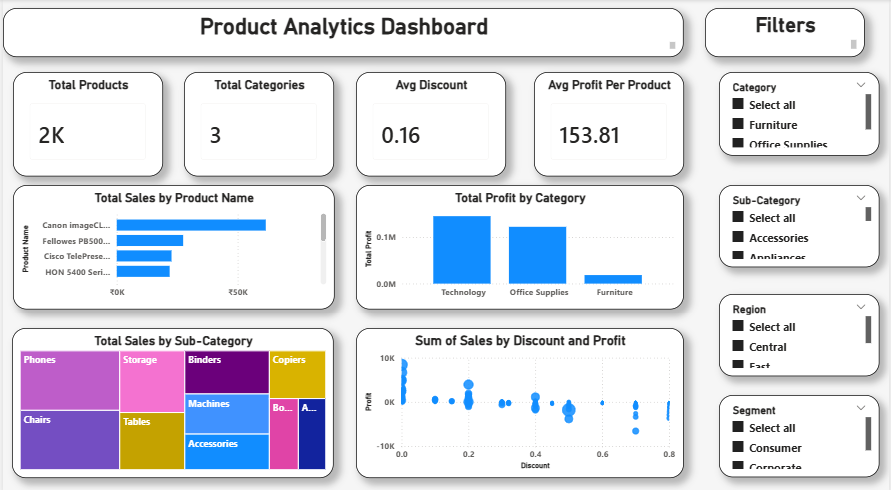

What the dashboard file says about the page in this screenshot:
{"tool":"powerbi","page":{"name":"Product Performance Analysis","canvas":[1280,720],"ordinal":2},"visuals":[{"type":"textbox","title":"Product Analytics Dashboard","box":[0,13.4,984.4,70.6],"z":0},{"type":"textbox","title":"Filters","box":[1014.6,13.4,231,70.6],"z":1000},{"type":"cardVisual","title":"Total Products","fields":{"Data":["cleaned_data.Total Products"]},"box":[15.1,105.8,216.7,151.2],"z":2000},{"type":"cardVisual","title":"Total Categories","fields":{"Data":["cleaned_data.Total Categories"]},"box":[262,105.8,216.7,151.2],"z":3000},{"type":"cardVisual","title":"Avg Discount","fields":{"Data":["cleaned_data.Avg Discount"]},"box":[510.7,105.8,216.7,151.2],"z":4000},{"type":"cardVisual","title":"Avg Profit Per Product","fields":{"Data":["cleaned_data.Avg Profit Per Product"]},"box":[767.7,105.8,216.7,151.2],"z":5000},{"type":"barChart","fields":{"Category":["cleaned_data.Product Name"],"Y":["cleaned_data.Total Sales"]},"box":[14.1,269.4,464.8,179.6],"z":6000},{"type":"columnChart","fields":{"Category":["cleaned_data.Category"],"Y":["cleaned_data.Total Profit"]},"box":[510.6,269.4,473.6,179.6],"z":7000},{"type":"treemap","fields":{"Group":["cleaned_data.Sub-Category"],"Values":["cleaned_data.Total Sales"]},"box":[13.4,475.4,465.3,216.7],"z":8000},{"type":"scatterChart","fields":{"X":["cleaned_data.Discount"],"Y":["cleaned_data.Profit"],"Size":["Sum(cleaned_data.Sales)"]},"box":[510.7,475.4,473.7,216.7],"z":9000},{"type":"slicer","fields":{"Values":["cleaned_data.Category"]},"box":[1034.8,105.8,231.8,120.9],"z":10000},{"type":"slicer","fields":{"Values":["cleaned_data.Sub-Category"]},"box":[1034.8,268.8,231.8,119.3],"z":11000},{"type":"slicer","fields":{"Values":["cleaned_data.Region"]},"box":[1034.8,426.7,231.8,119.3],"z":12000},{"type":"slicer","fields":{"Values":["cleaned_data.Segment"]},"box":[1034.8,572.8,231.8,119.3],"z":13000}]}

Visuals, with their boxes in screenshot pixels (x1, y1, x2, y2), scaled from the page's 1280x720 canvas onto the 891x490 screenshot:
"Product Analytics Dashboard" textbox: 0,9,685,57
"Filters" textbox: 706,9,867,57
"Total Products" cardVisual: 11,72,161,175
"Total Categories" cardVisual: 182,72,333,175
"Avg Discount" cardVisual: 355,72,506,175
"Avg Profit Per Product" cardVisual: 534,72,685,175
barChart - cleaned_data.Product Name x cleaned_data.Total Sales: 10,183,333,306
columnChart - cleaned_data.Category x cleaned_data.Total Profit: 355,183,685,306
treemap - cleaned_data.Sub-Category x cleaned_data.Total Sales: 9,324,333,471
scatterChart - cleaned_data.Discount x cleaned_data.Profit: 355,324,685,471
slicer - cleaned_data.Category: 720,72,882,154
slicer - cleaned_data.Sub-Category: 720,183,882,264
slicer - cleaned_data.Region: 720,290,882,372
slicer - cleaned_data.Segment: 720,390,882,471
